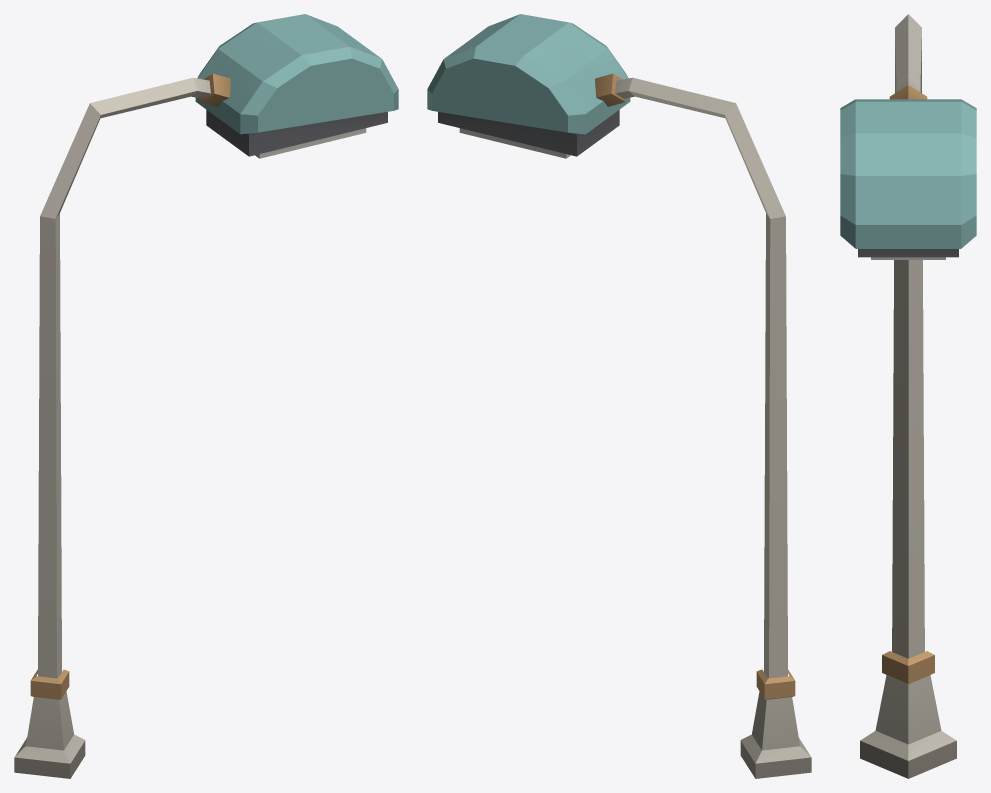
Rendered from lamp.lod1.glb.
The picture shows the model from 3 angles, left to right: view 1: azimuth 30°, elevation 25°; view 2: azimuth 150°, elevation 25°; view 3: azimuth 270°, elevation 25°; orthographic projection. The views are drawn at different scales.
Bounding box in the file's own units: 2.24 × 3.96 × 0.62.
